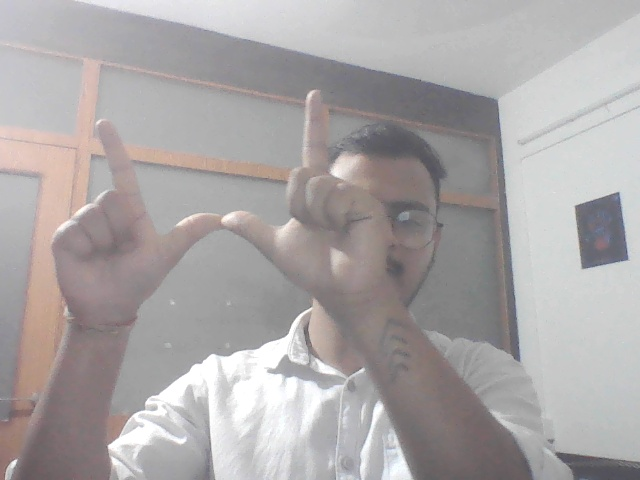Whatever: (50, 82, 398, 324)
